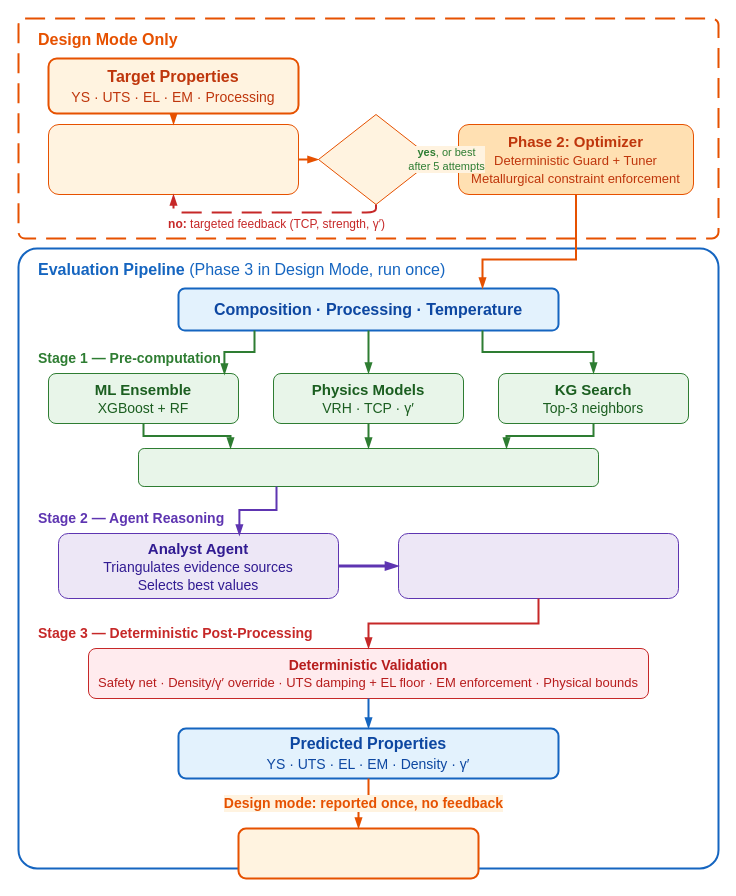
Image size: 736x896. Some labels were removed from this diagram. Each missing label, with the centre of its shape:
"Designed Alloy Final composition + properties" belongs at pixel 358 853.
"Evidence Assembly ML · Physics · KG anchors + calibration proposals" belongs at pixel 368 467.
"Phase 1: Designer Agent LLM synthesizes candidate composition, up to 5 attempts" belongs at pixel 173 159.
"Physics screen passed?" belongs at pixel 376 159.
"Reviewer Agent Validates predictions Corrects violations" belongs at pixel 538 565.
